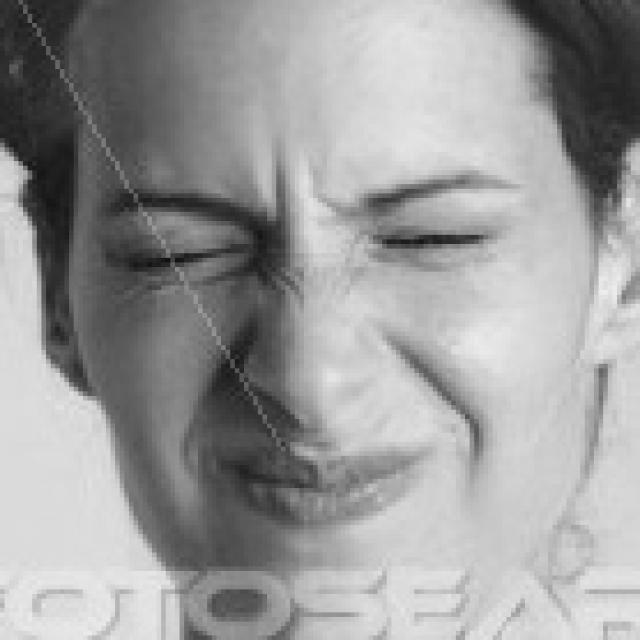real: (56, 0, 603, 615), (74, 167, 528, 286)
